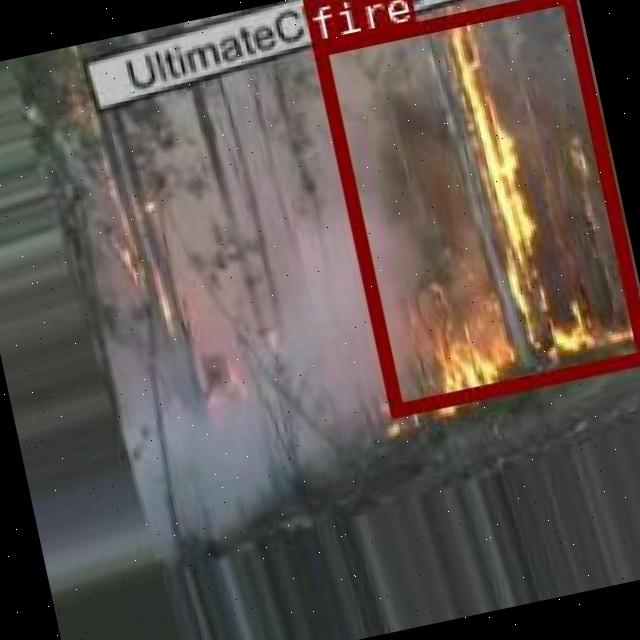fire: (308, 0, 640, 416)
